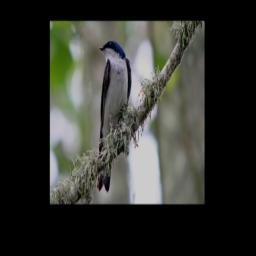Swallow: (95, 39, 132, 194)
